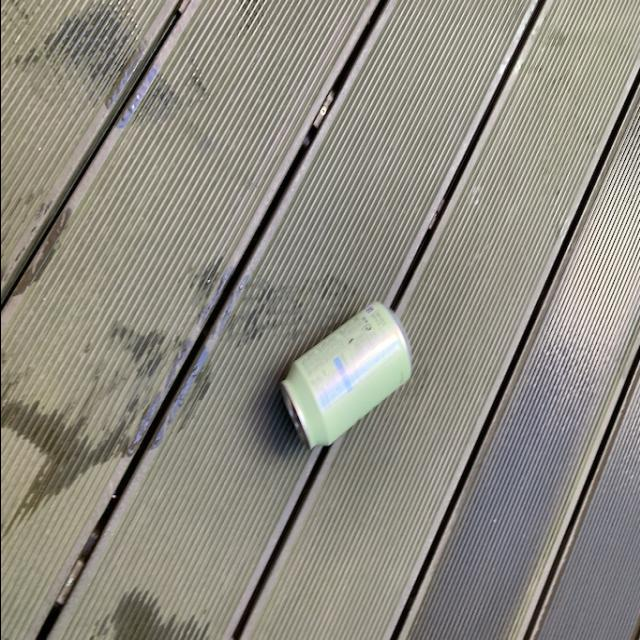Aluminum Can: (272, 298, 412, 452)
